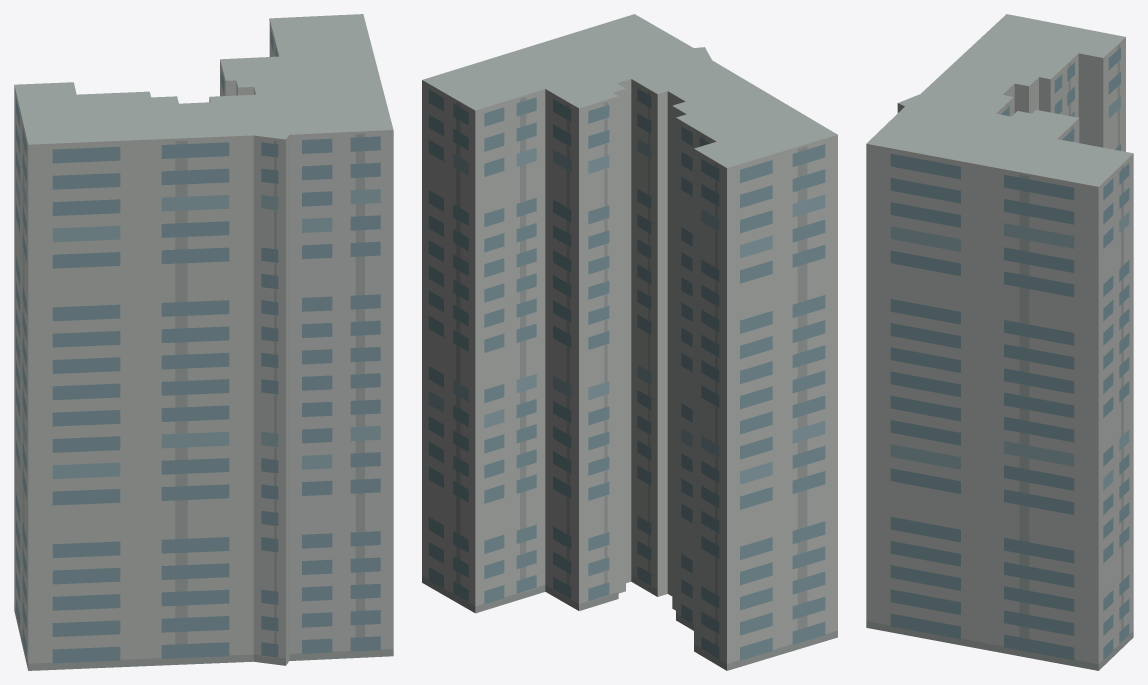
File: residential-a51337fa-9016-4373-af86-1d46bf0efb22.glb
3 views of the same model, side by side, from view 1: azimuth 30°, elevation 25°; view 2: azimuth 150°, elevation 25°; view 3: azimuth 270°, elevation 25° (orthographic). The views are drawn at different scales.
Visible parts, largest first — view 1: residential-a51337fa-9016-4373-af86-1d46bf0efb22.tmp; view 2: residential-a51337fa-9016-4373-af86-1d46bf0efb22.tmp; view 3: residential-a51337fa-9016-4373-af86-1d46bf0efb22.tmp.
Part boxes in pixels (left/top/right/bottom): residential-a51337fa-9016-4373-af86-1d46bf0efb22.tmp: left=14, top=14, right=393, bottom=670; residential-a51337fa-9016-4373-af86-1d46bf0efb22.tmp: left=422, top=14, right=837, bottom=670; residential-a51337fa-9016-4373-af86-1d46bf0efb22.tmp: left=866, top=14, right=1133, bottom=670.
Size of the model in its own units: 43.67 by 57 by 28.54.
